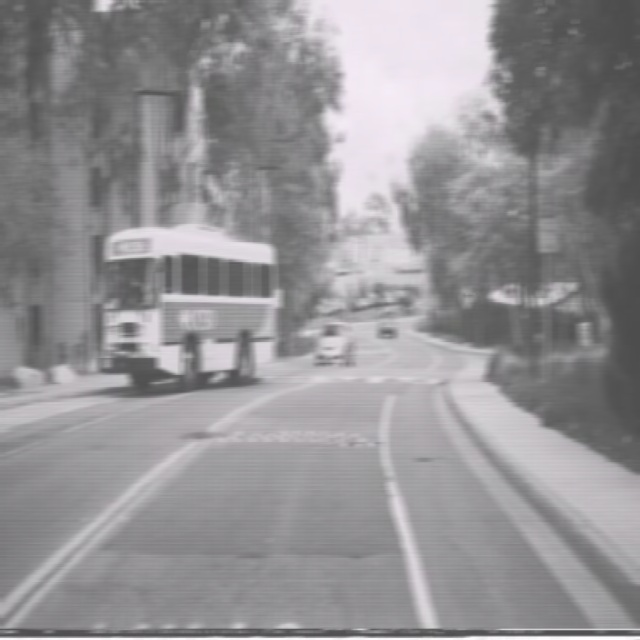turnRight: (460, 283, 472, 309)
